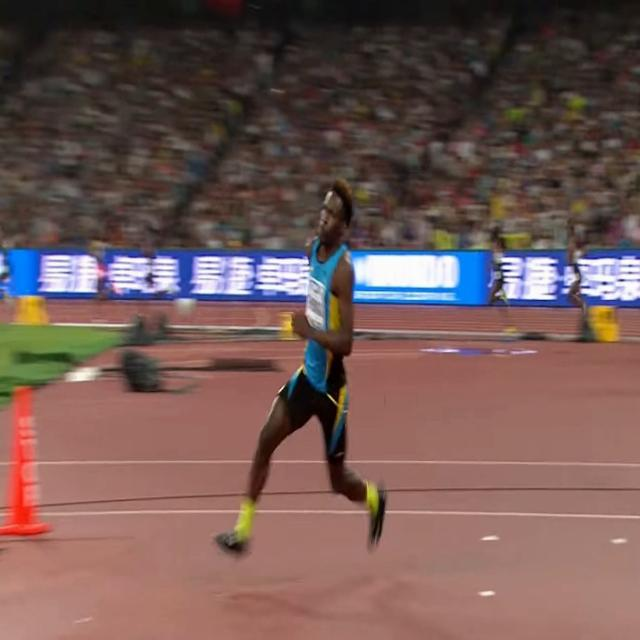run: (211, 177, 387, 559)
